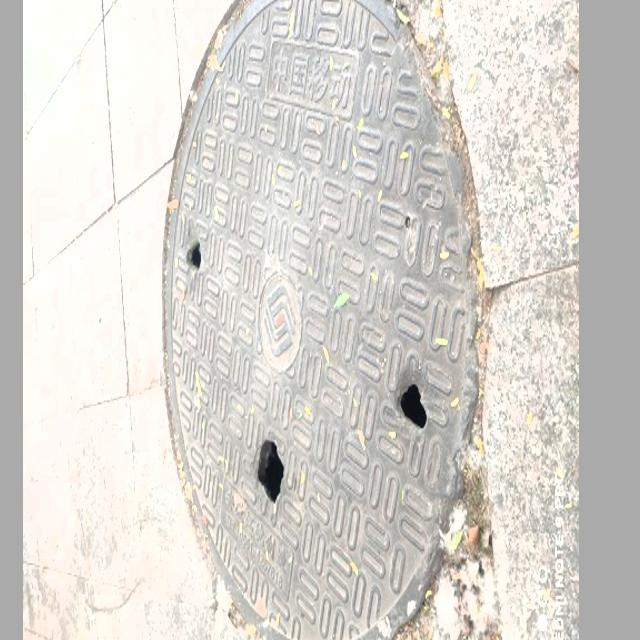broke: (162, 0, 478, 640)
